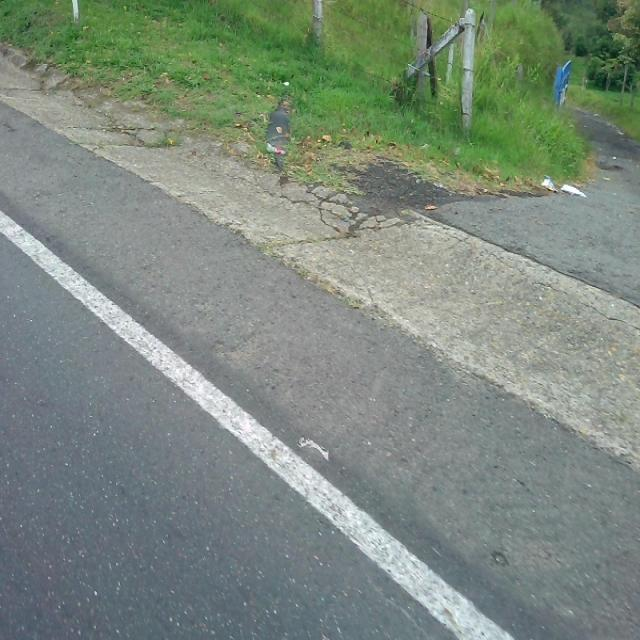DITCH: (1, 43, 638, 638), (1, 81, 638, 638)
